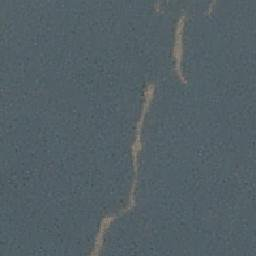debris: (129, 82, 155, 208), (172, 15, 192, 85), (92, 215, 114, 256)
